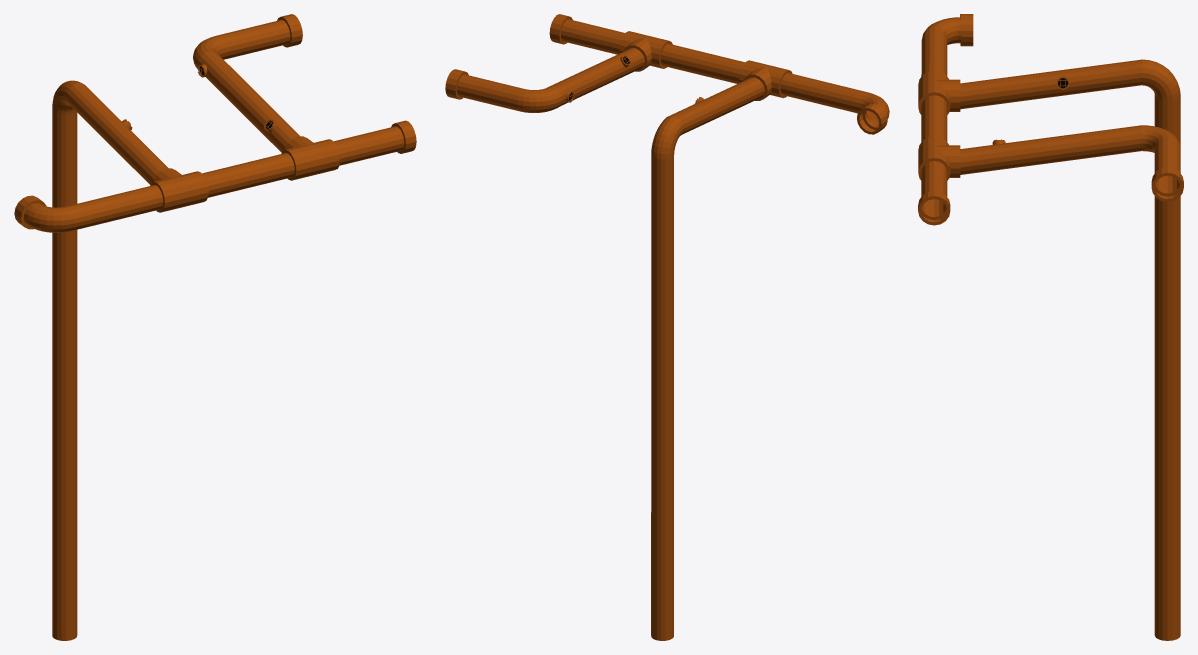
File: Pipe5.fbx
The picture shows the model from 3 angles, left to right: view 1: azimuth 30°, elevation 25°; view 2: azimuth 150°, elevation 25°; view 3: azimuth 270°, elevation 25°; orthographic projection. The views are drawn at different scales.
Parts seen in each view (by area): view 1: Top, Bottom; view 2: Top, Bottom; view 3: Top, Bottom.
Part boxes in pixels (x1,y1,x2,y2): Top: (52, 14, 302, 640); Bottom: (14, 120, 416, 232); Top: (445, 48, 764, 640); Bottom: (549, 14, 889, 134); Top: (960, 59, 1183, 640); Bottom: (918, 14, 973, 225).
Size of the model in its own units: 1713 by 2459 by 1026.
